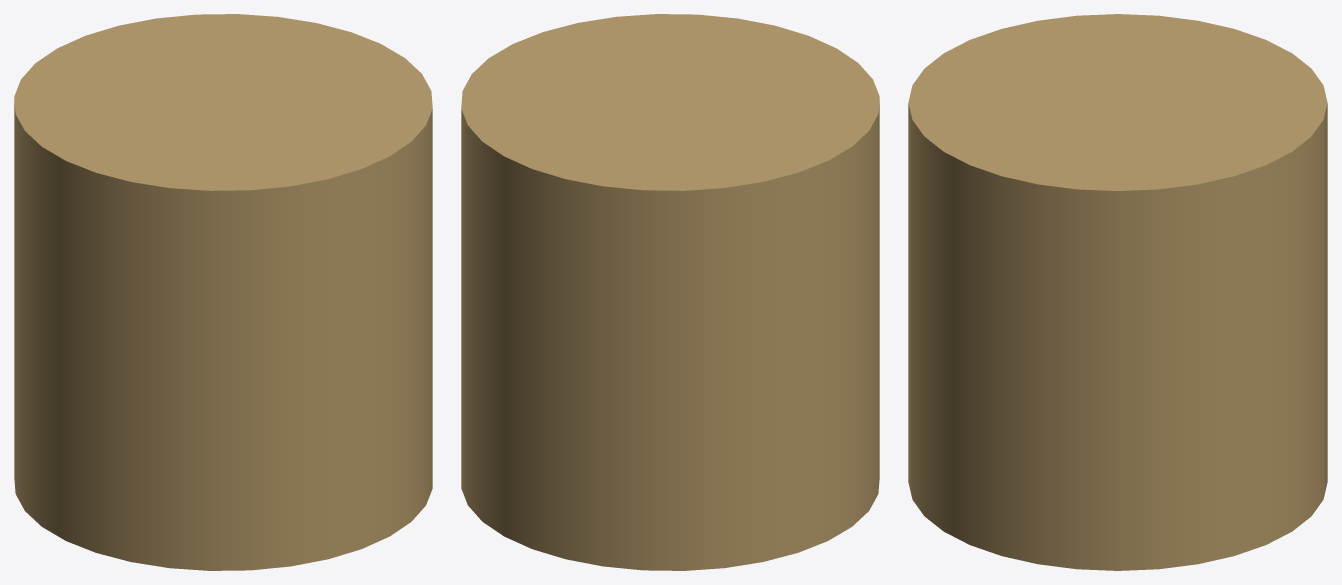
Rendered from lamp-16-4.glb.
3 views of the same model, side by side, from view 1: azimuth 30°, elevation 25°; view 2: azimuth 150°, elevation 25°; view 3: azimuth 270°, elevation 25° (orthographic).
Visible parts, largest first — view 1: part; view 2: part; view 3: part.
Boxes of the visible parts, box(x1,y1,x2,y2) form: part: box(14, 14, 432, 570); part: box(461, 14, 879, 570); part: box(908, 14, 1327, 570).
Bounding box in the file's own units: 1 × 1 × 1.
